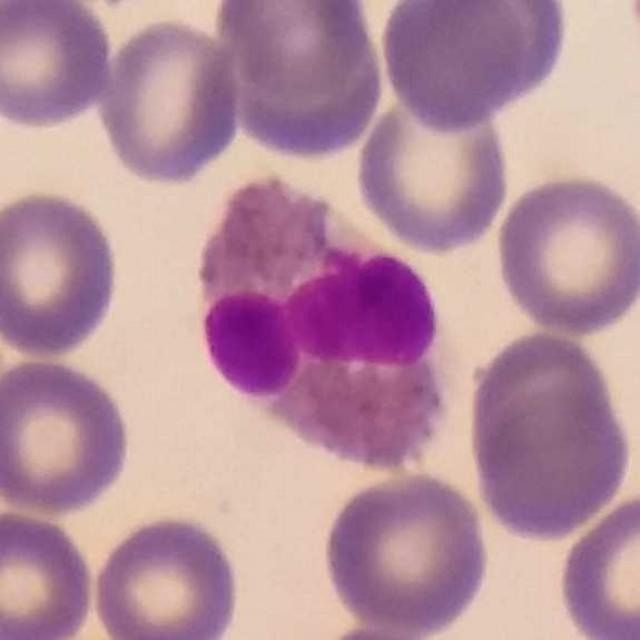Eosinophil: (186, 174, 458, 476)
RBC: (462, 326, 637, 547), (318, 466, 496, 638), (93, 13, 245, 188), (351, 93, 513, 256), (491, 168, 640, 338), (226, 27, 390, 165), (0, 354, 136, 519), (0, 184, 126, 360), (376, 0, 535, 132), (88, 510, 245, 640), (211, 0, 380, 102), (431, 0, 575, 112), (0, 0, 118, 132), (0, 505, 99, 640), (553, 487, 640, 640), (307, 623, 468, 640)
